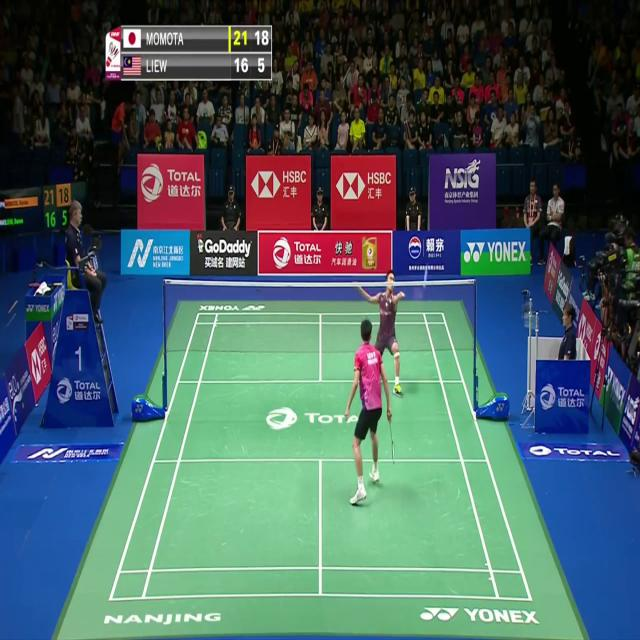Shuttlecock: (422, 270, 429, 281)
